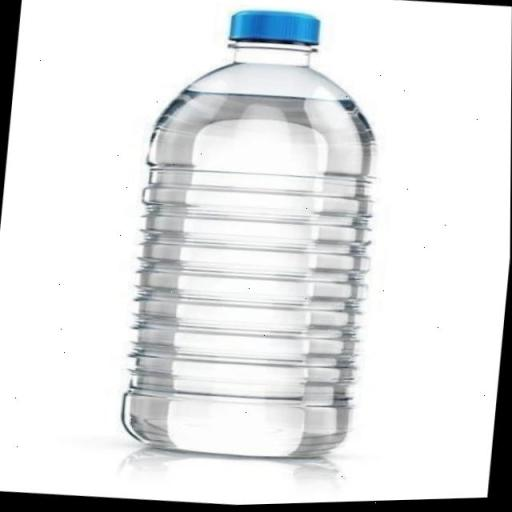plastic: (102, 0, 402, 479)
